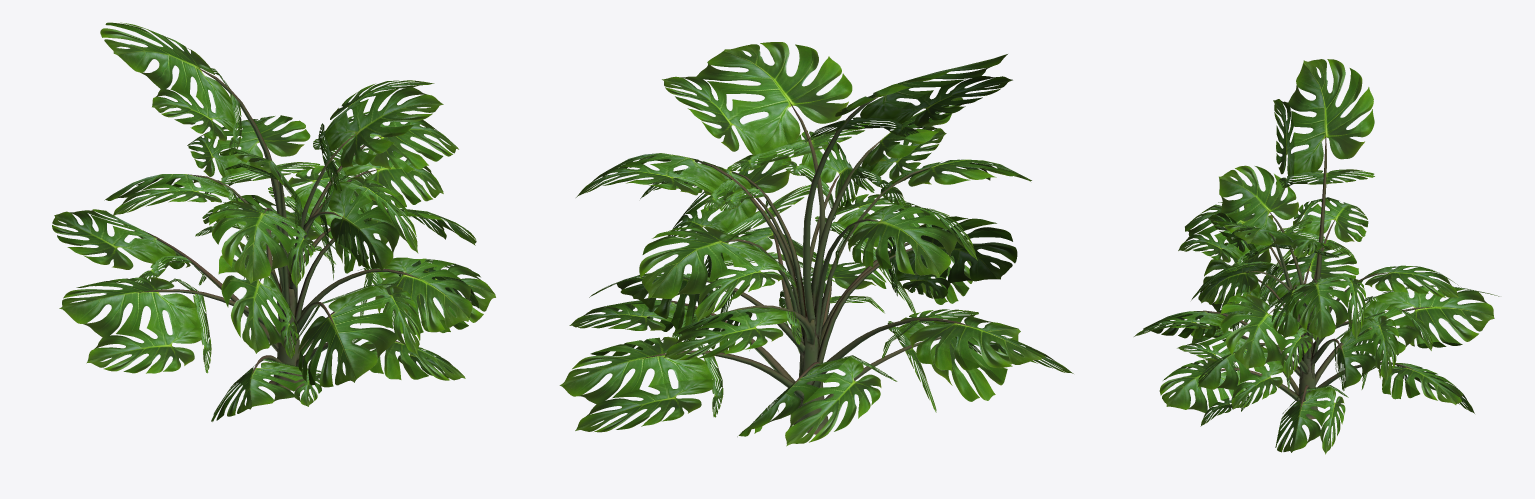
File: monstera-b.glb
3 views of the same model, side by side, from view 1: azimuth 30°, elevation 25°; view 2: azimuth 150°, elevation 25°; view 3: azimuth 270°, elevation 25° (orthographic). The views are drawn at different scales.
Parts seen in each view (by area): view 1: monstera-b; view 2: monstera-b; view 3: monstera-b.
Boxes of the visible parts, left/top/right/bottom form: monstera-b: left=52, top=22, right=495, bottom=421; monstera-b: left=559, top=42, right=1073, bottom=446; monstera-b: left=1134, top=59, right=1499, bottom=454.
Size of the model in its own units: 3.16 by 2.79 by 3.09.
2 materials, 2 textured.
